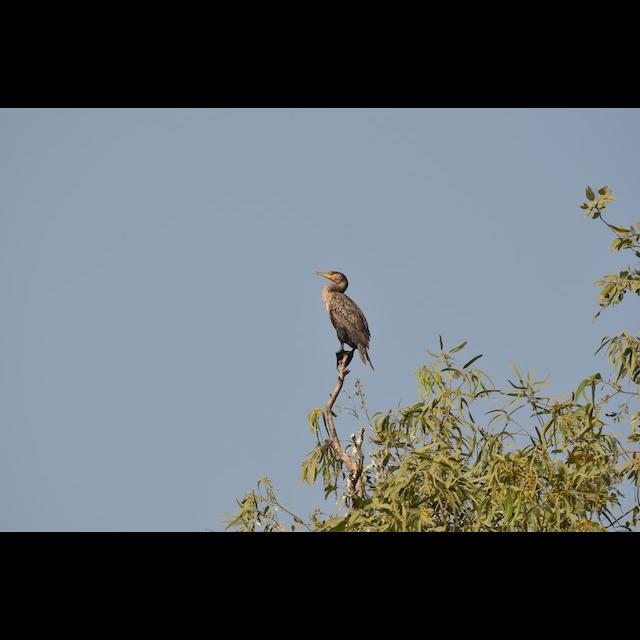cormorant: (317, 268, 378, 368)
